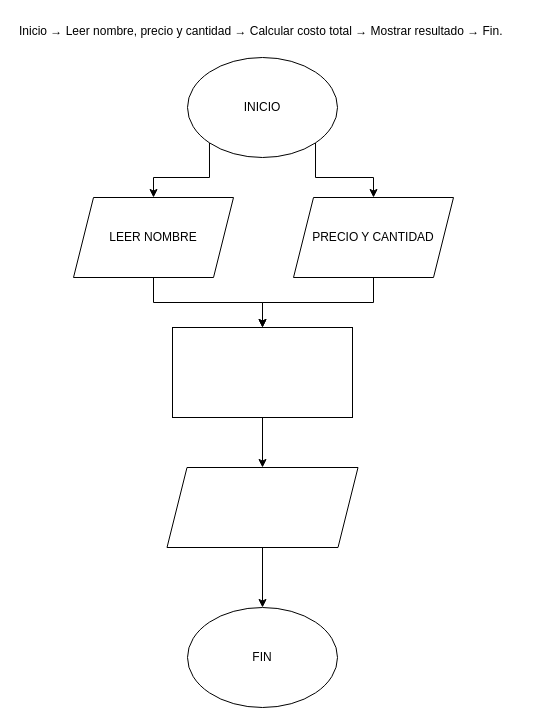
This 554x725 diagram has some shape labels left out. Each missing label, with the centre of its shape:
CALCULAR COSTO_TOTAL = PRECIO * CANTIDAD: point (262, 372)
MOSTRAR RESULTADOS: point (262, 507)
